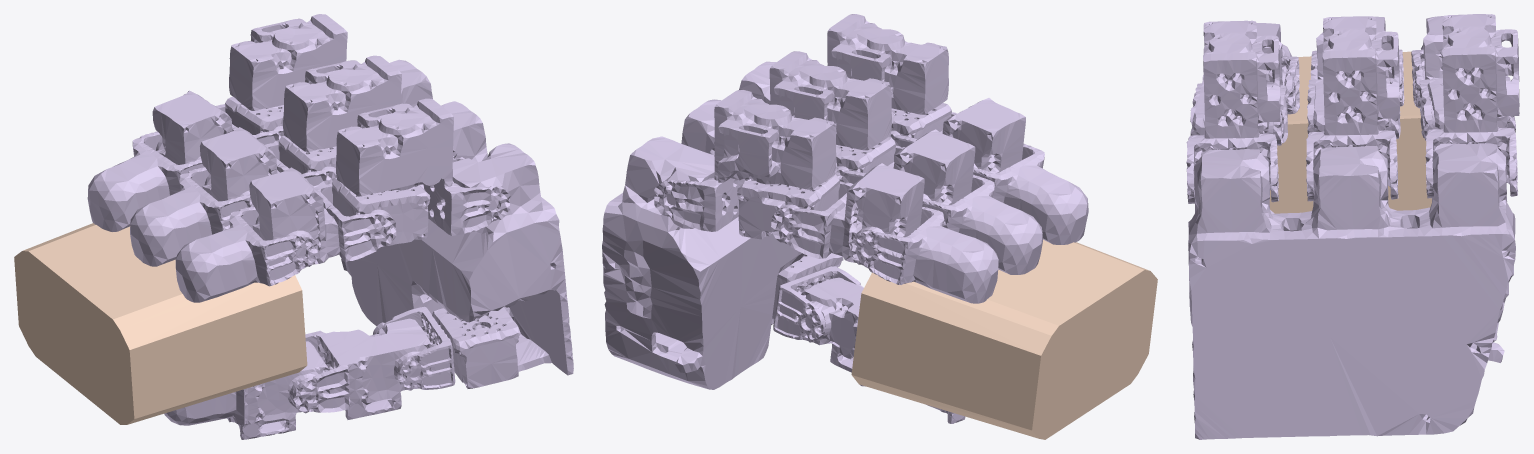
The picture shows the model from 3 angles, left to right: view 1: azimuth 30°, elevation 25°; view 2: azimuth 150°, elevation 25°; view 3: azimuth 270°, elevation 25°; orthographic projection. The views are drawn at different scales.
Visible parts, largest first — view 1: LEAP_hand, world; view 2: LEAP_hand, world; view 3: LEAP_hand, world.
Part boxes in pixels (x1,y1,x2,y2): LEAP_hand: (87,14,573,439); world: (14,223,307,424); LEAP_hand: (602,14,1088,423); world: (851,239,1157,439); LEAP_hand: (1186,14,1519,439); world: (1269,51,1431,213).
Bounding box in the file's own units: 0.2093 × 0.1481 × 0.1265.
